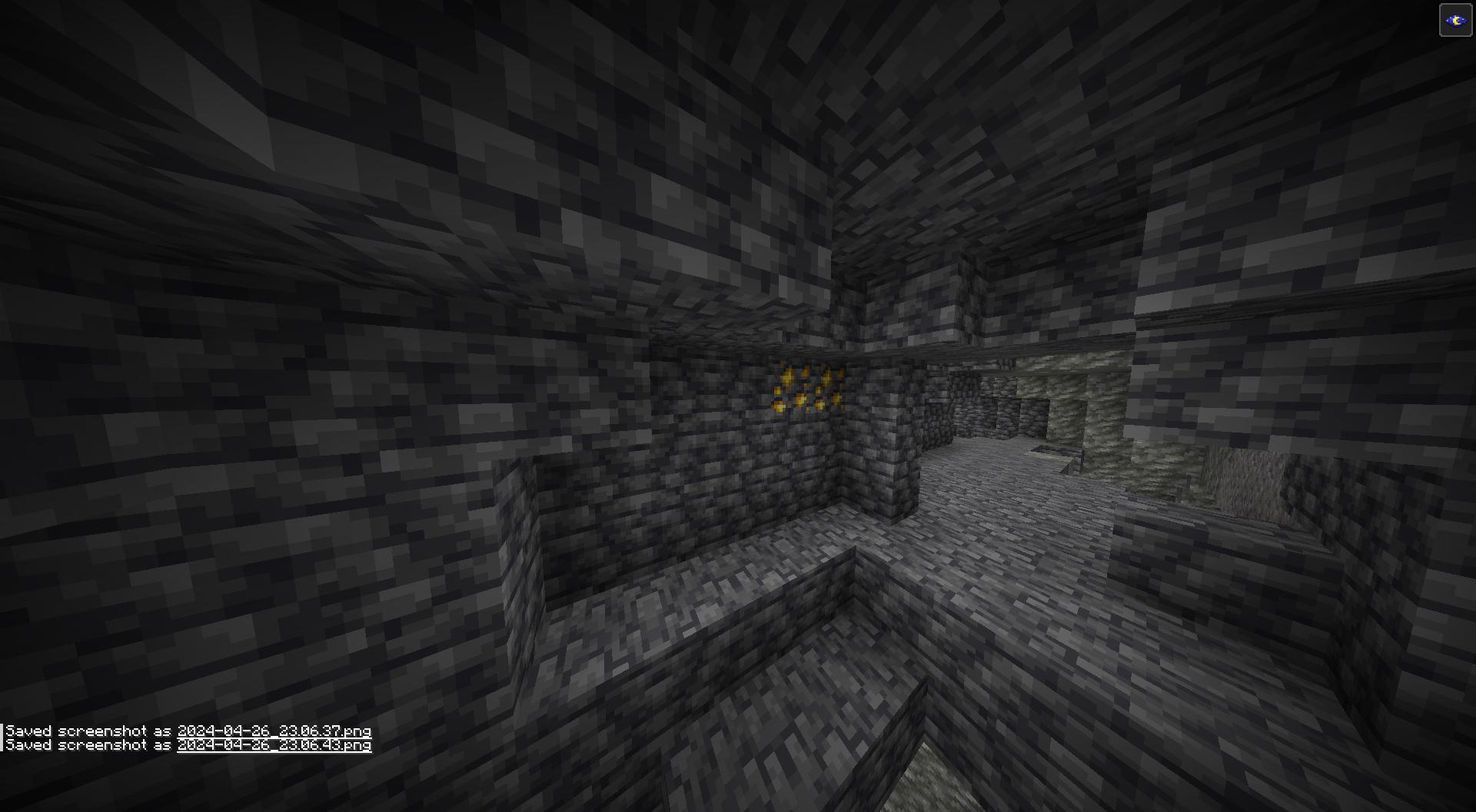gold ore: (771, 358, 814, 416), (805, 354, 846, 410)
